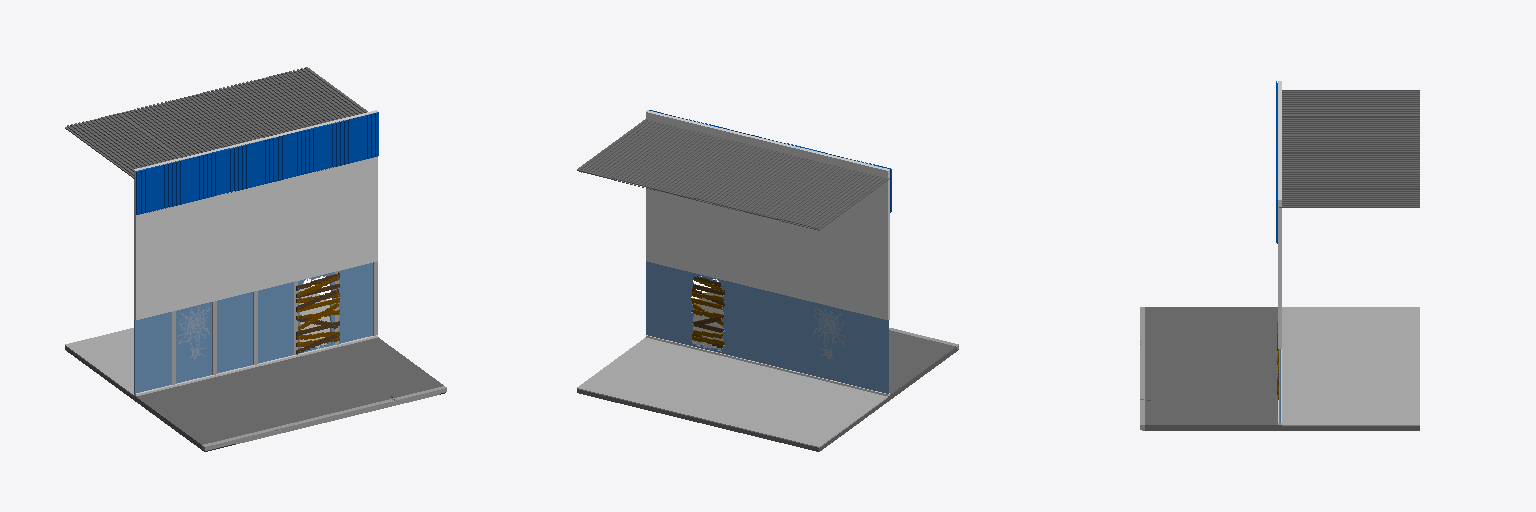
3 renders of one model, left to right at view 1: azimuth 30°, elevation 25°; view 2: azimuth 150°, elevation 25°; view 3: azimuth 270°, elevation 25°, orthographic.
Visible parts, largest first — view 1: object 1; view 2: object 1; view 3: object 1.
Part boxes in pixels (x1,y1,x2,y2): object 1: (65, 67, 446, 451); object 1: (577, 110, 958, 451); object 1: (1140, 81, 1419, 430).
Size of the model in its own units: 25 by 22.7 by 25.
Materials: 1 (1 with a texture image).